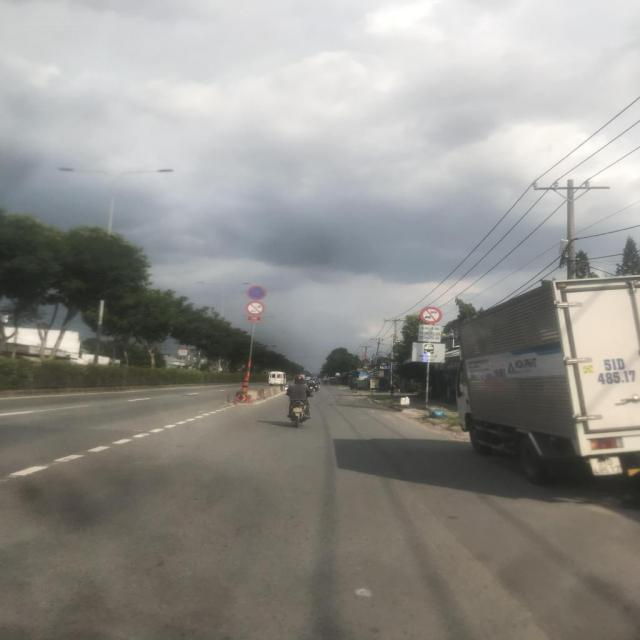107-cam-oto-khach-va-oto-tai: (420, 306, 442, 324)
